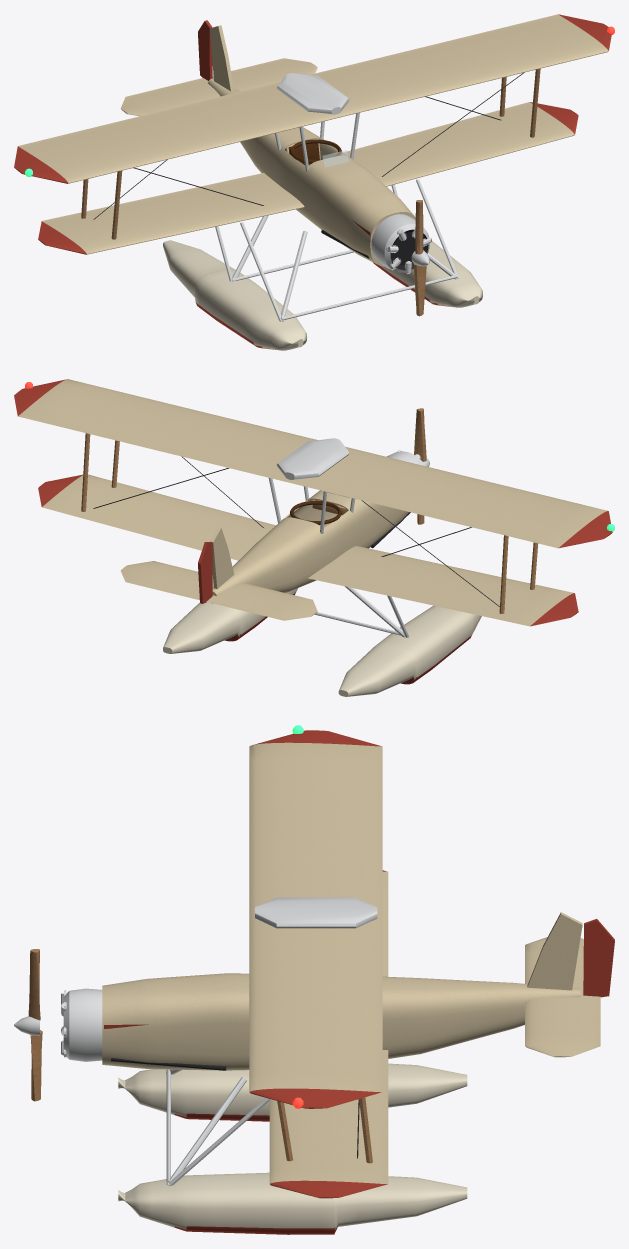
The model's file is seaplane.glb.
3 views of the same model, one above another, from view 1: azimuth 30°, elevation 25°; view 2: azimuth 150°, elevation 25°; view 3: azimuth 270°, elevation 25° (orthographic). The views are drawn at different scales.
Visible parts, largest first — view 1: body, prop; view 2: body, prop; view 3: body, prop.
Boxes of the visible parts, <box> form: body: <box>14,14,614,350</box>; prop: <box>411,200,429,316</box>; body: <box>14,379,614,696</box>; prop: <box>414,408,429,524</box>; body: <box>61,725,614,1234</box>; prop: <box>14,949,42,1101</box>.
Size of the model in its own units: 12.4 by 4.02 by 8.35.
Materials: 10 (3 with a texture image).
